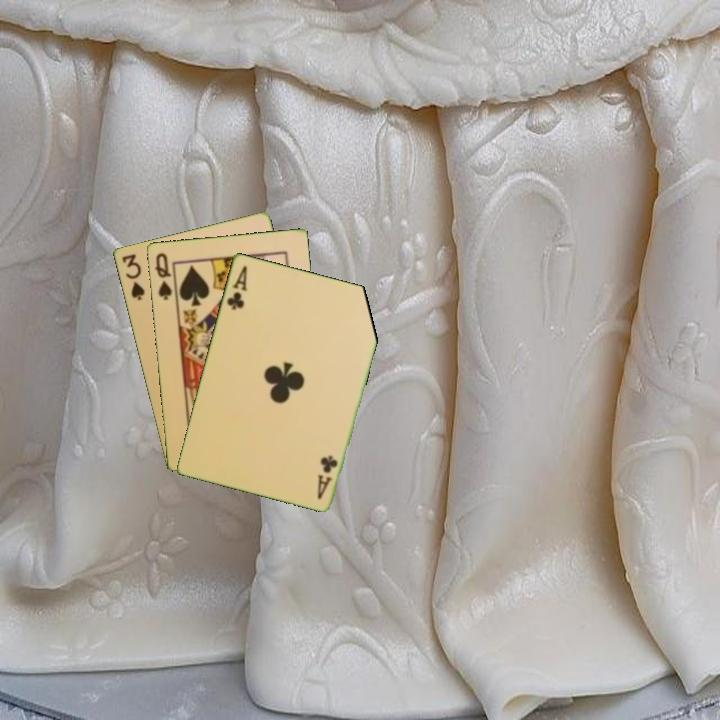3s: (118, 250, 147, 303)
Ac: (223, 262, 250, 313), (314, 451, 341, 502)
Qs: (151, 249, 174, 303)
